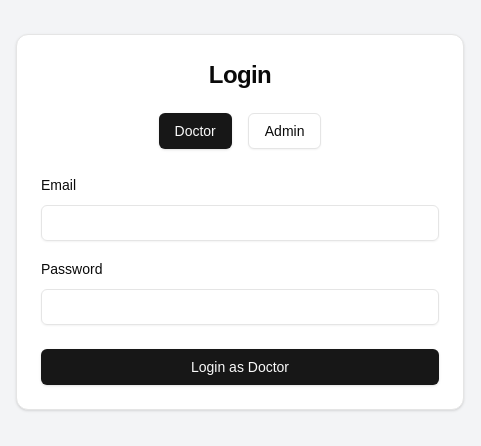
Test case: LoginPage Component › shows error when email is empty
Step 1. Click the button with test id "login-submit-button" → [240, 367], box [41,349,439,385]
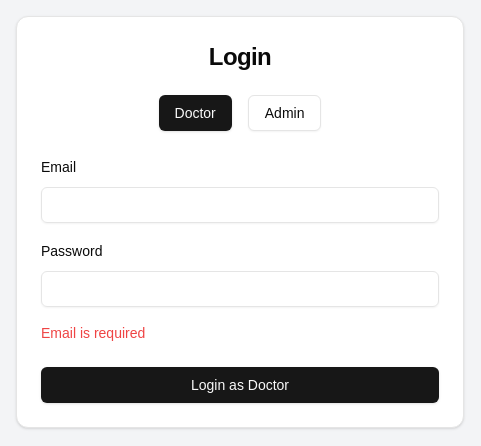
Expected: the text with test id "error-message" reads "Email is required", [41,325,145,341]
